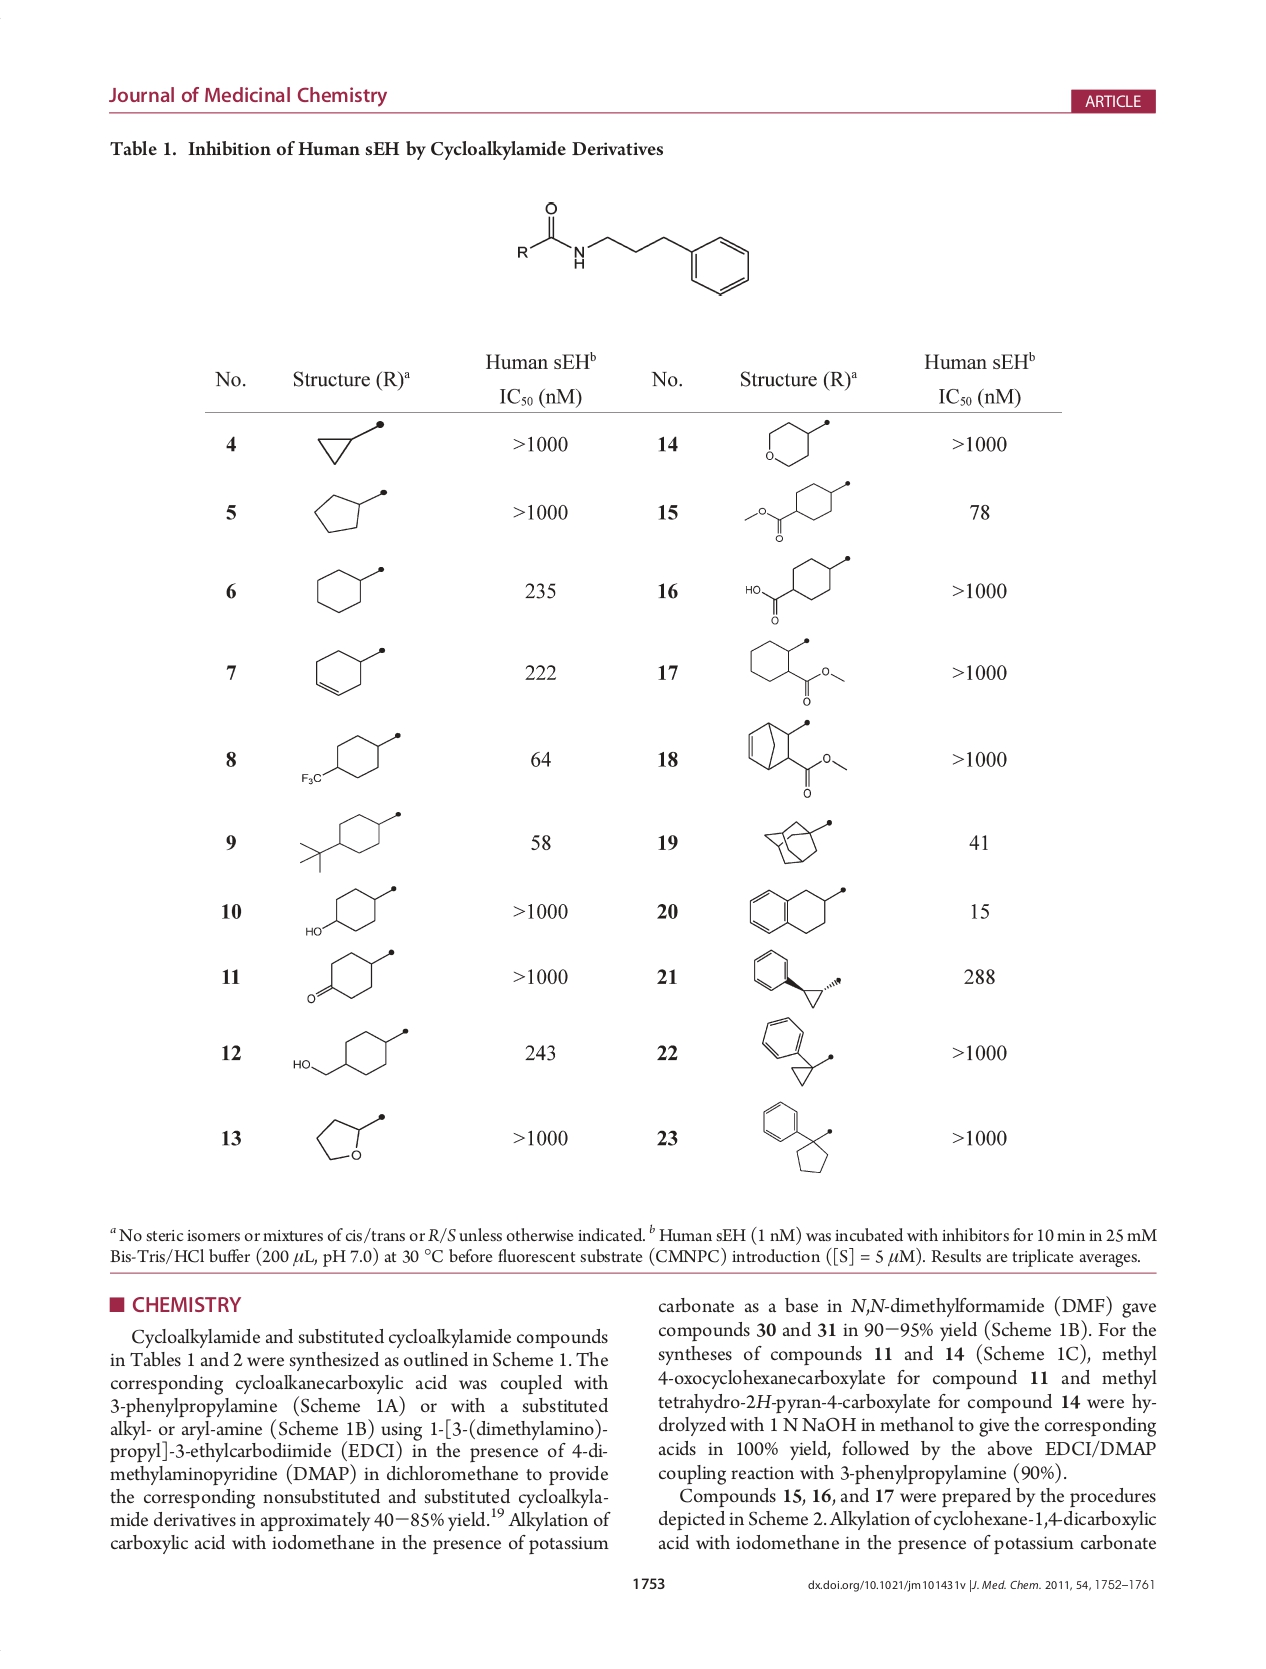exist_molecular: (511, 195, 755, 306), (745, 717, 851, 803), (741, 555, 852, 626), (739, 477, 852, 545), (297, 722, 404, 793), (746, 636, 848, 709), (297, 806, 404, 874), (755, 1094, 840, 1180), (746, 946, 844, 1012), (739, 879, 850, 938), (289, 1028, 411, 1080), (759, 1012, 836, 1089), (301, 948, 398, 1009), (301, 882, 399, 938), (305, 551, 390, 614), (307, 1106, 390, 1168), (311, 477, 392, 539), (309, 638, 390, 698), (309, 419, 394, 469), (761, 813, 832, 868), (759, 418, 832, 469)
